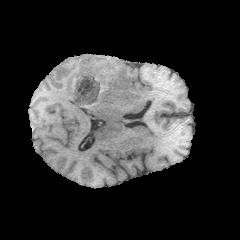glioma: (51, 56, 149, 110)
